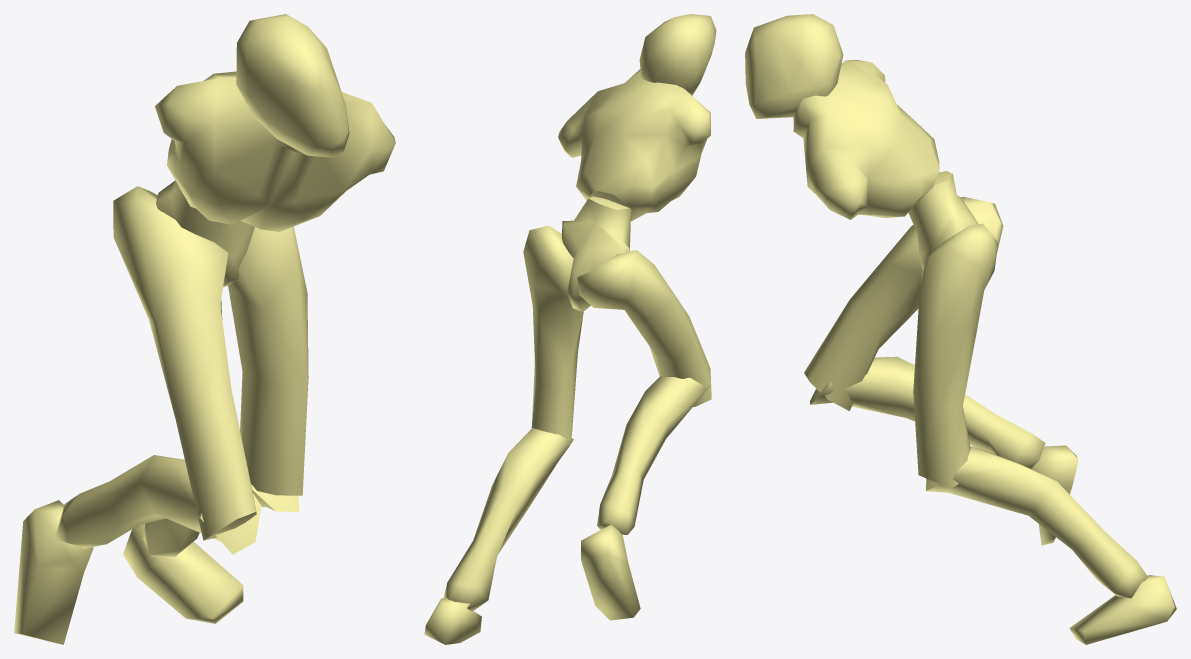
File: filth29.obj
3 views of the same model, side by side, from view 1: azimuth 30°, elevation 25°; view 2: azimuth 150°, elevation 25°; view 3: azimuth 270°, elevation 25° (orthographic). The views are drawn at different scales.
Parts seen in each view (by area): view 1: Melee_Husk; view 2: Melee_Husk; view 3: Melee_Husk.
Part boxes in pixels (x1,y1,x2,y2): Melee_Husk: [14, 14, 395, 644]; Melee_Husk: [424, 14, 716, 644]; Melee_Husk: [745, 14, 1176, 644].
Bounding box in the file's own units: 22.15 × 64.68 × 43.79.
